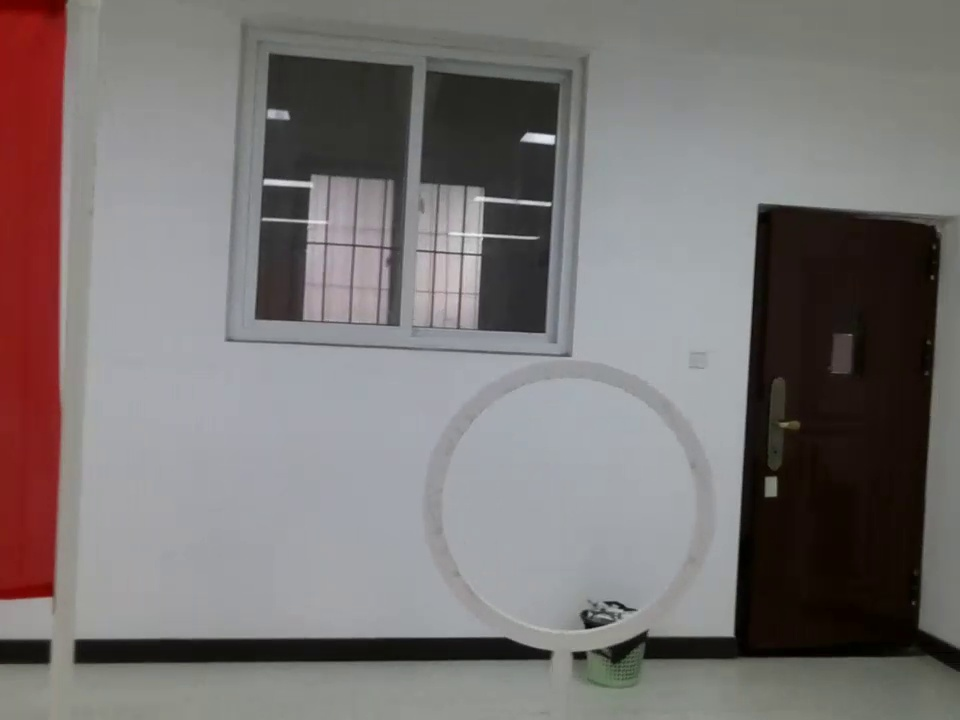qi: (2, 1, 79, 667)
quan: (413, 348, 729, 671)
